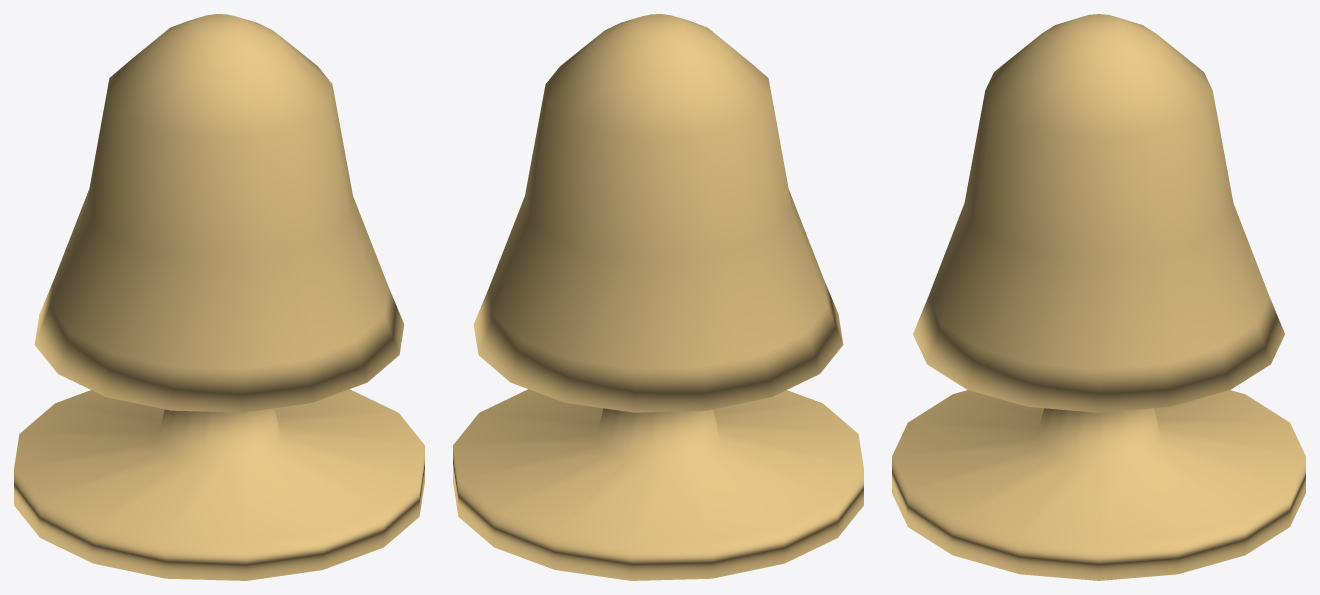
File: bell.glb
The picture shows the model from 3 angles, left to right: view 1: azimuth 30°, elevation 25°; view 2: azimuth 150°, elevation 25°; view 3: azimuth 270°, elevation 25°; orthographic projection.
Parts seen in each view (by area): view 1: bell; view 2: bell; view 3: bell.
Part boxes in pixels (left/top/right/bottom): bell: left=14, top=14, right=424, bottom=580; bell: left=453, top=14, right=863, bottom=580; bell: left=892, top=14, right=1305, bottom=580.
Size of the model in its own units: 0.8 by 1 by 0.8.
